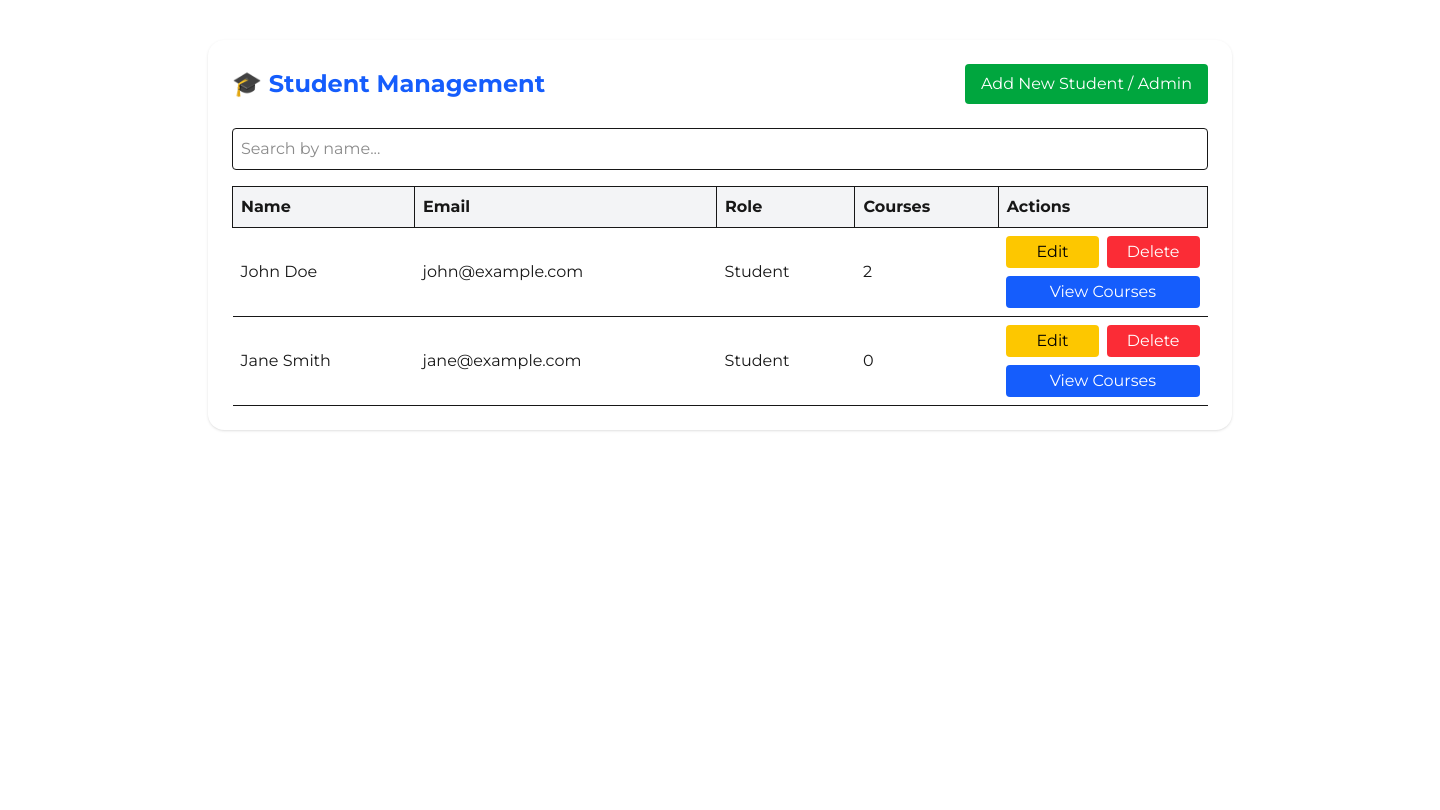
StudentManagement Page › handles edit student flow
Expected: the text "John Doe" is shown, [232,228,414,316]
What coordinates should you click on to do the following:
click the button "Edit" in the row of "John Doe"
I would click on:
 (1053, 252)
Its box is [1006,236,1099,268].
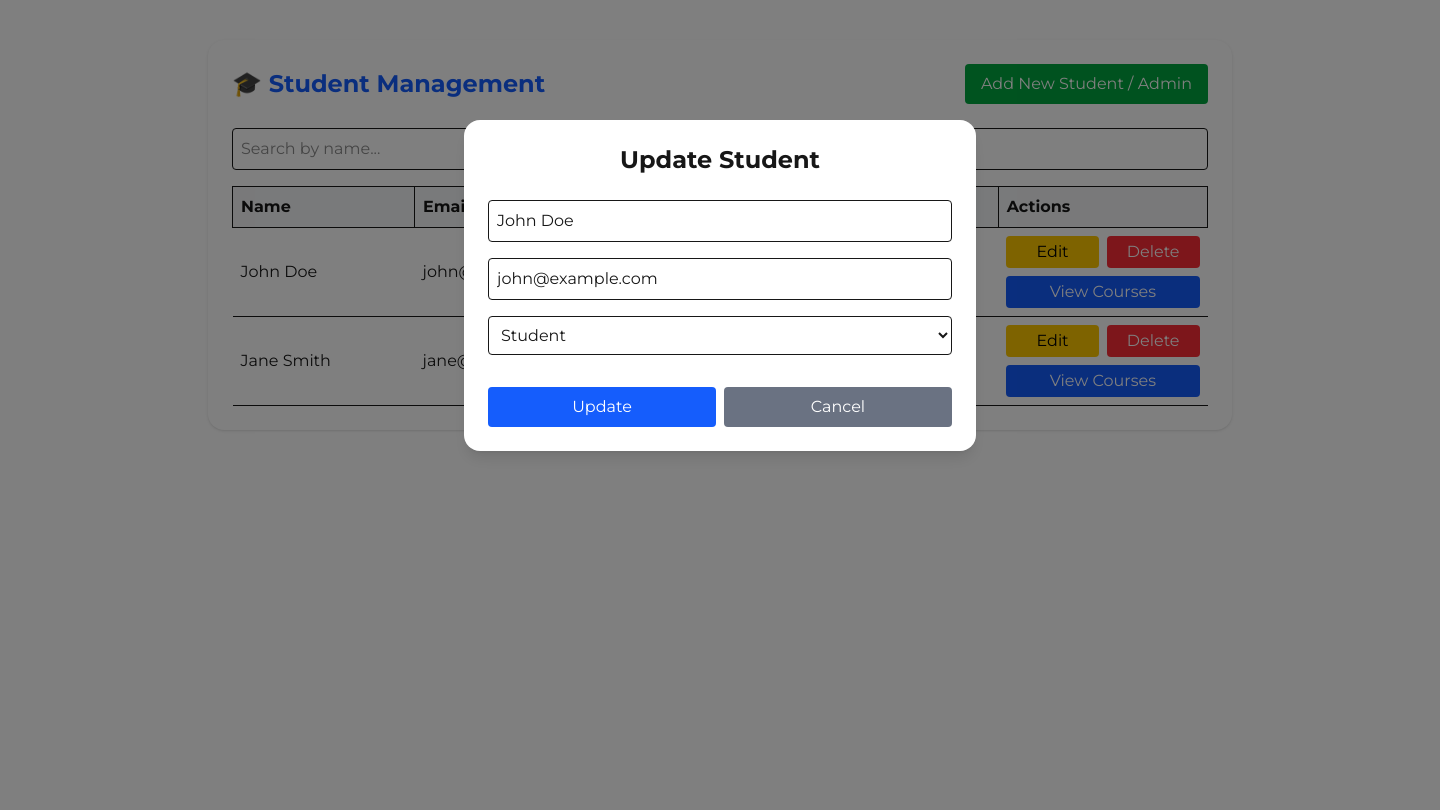
Now the 1st field showing "John Doe" is shown, box [488,200,952,242]
Now the 2nd field showing "john@example.com" is shown, box [488,258,952,300]
